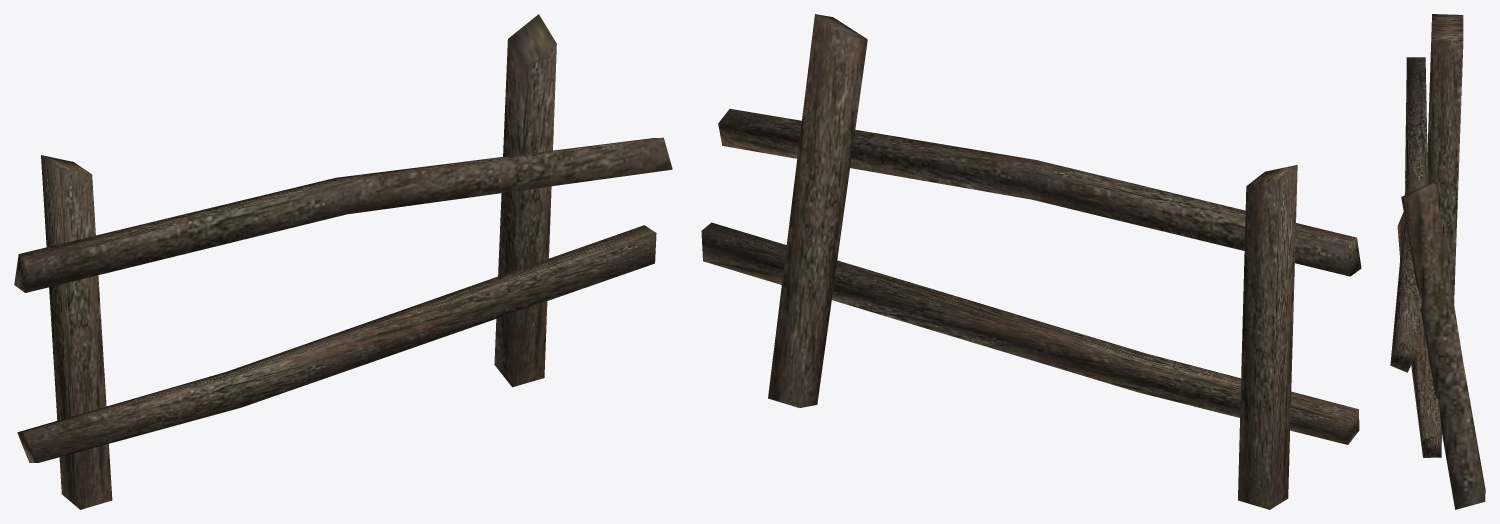
File: OW_LOB_FENCE_V1.glb
3 renders of one model, left to right at view 1: azimuth 30°, elevation 25°; view 2: azimuth 150°, elevation 25°; view 3: azimuth 270°, elevation 25°, orthographic. The views are drawn at different scales.
Visible parts, largest first — view 1: Mesh; view 2: Mesh; view 3: Mesh.
Part boxes in pixels (x1=…): Mesh: x1=14, y1=14, x2=672, y2=509; Mesh: x1=701, y1=14, x2=1361, y2=509; Mesh: x1=1390, y1=14, x2=1485, y2=509.
Bounding box in the file's own units: 3.2 × 1.81 × 0.4866.
1 material, 1 textured.
